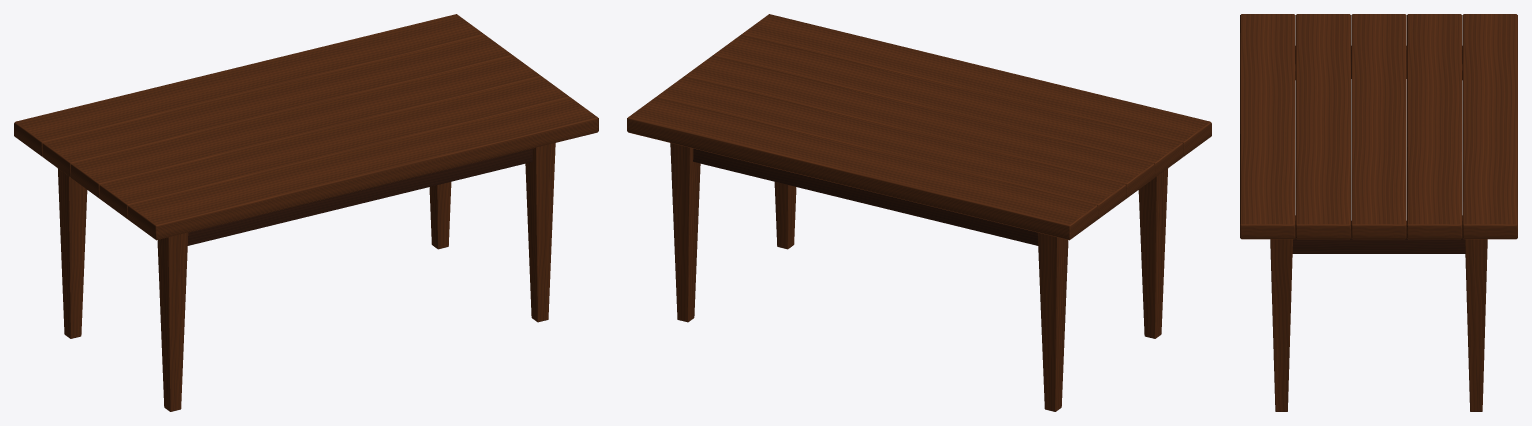
File: S030_dining_table_rebuilt.glb
The picture shows the model from 3 angles, left to right: view 1: azimuth 30°, elevation 25°; view 2: azimuth 150°, elevation 25°; view 3: azimuth 270°, elevation 25°; orthographic projection. The views are drawn at different scales.
Parts seen in each view (by area): view 1: Dining_table_warm_oak, Dining_table_end_and_joint_grain; view 2: Dining_table_warm_oak, Dining_table_end_and_joint_grain; view 3: Dining_table_warm_oak, Dining_table_end_and_joint_grain.
Boxes of the visible parts, x1,y1,x2,y2 form: Dining_table_warm_oak: (14,14,598,411); Dining_table_end_and_joint_grain: (187,148,532,245); Dining_table_warm_oak: (627,14,1211,411); Dining_table_end_and_joint_grain: (693,148,1038,245); Dining_table_warm_oak: (1240,14,1517,411); Dining_table_end_and_joint_grain: (1292,46,1465,253).
Size of the model in its own units: 1.8 by 0.806 by 1.
2 materials, 2 textured.
